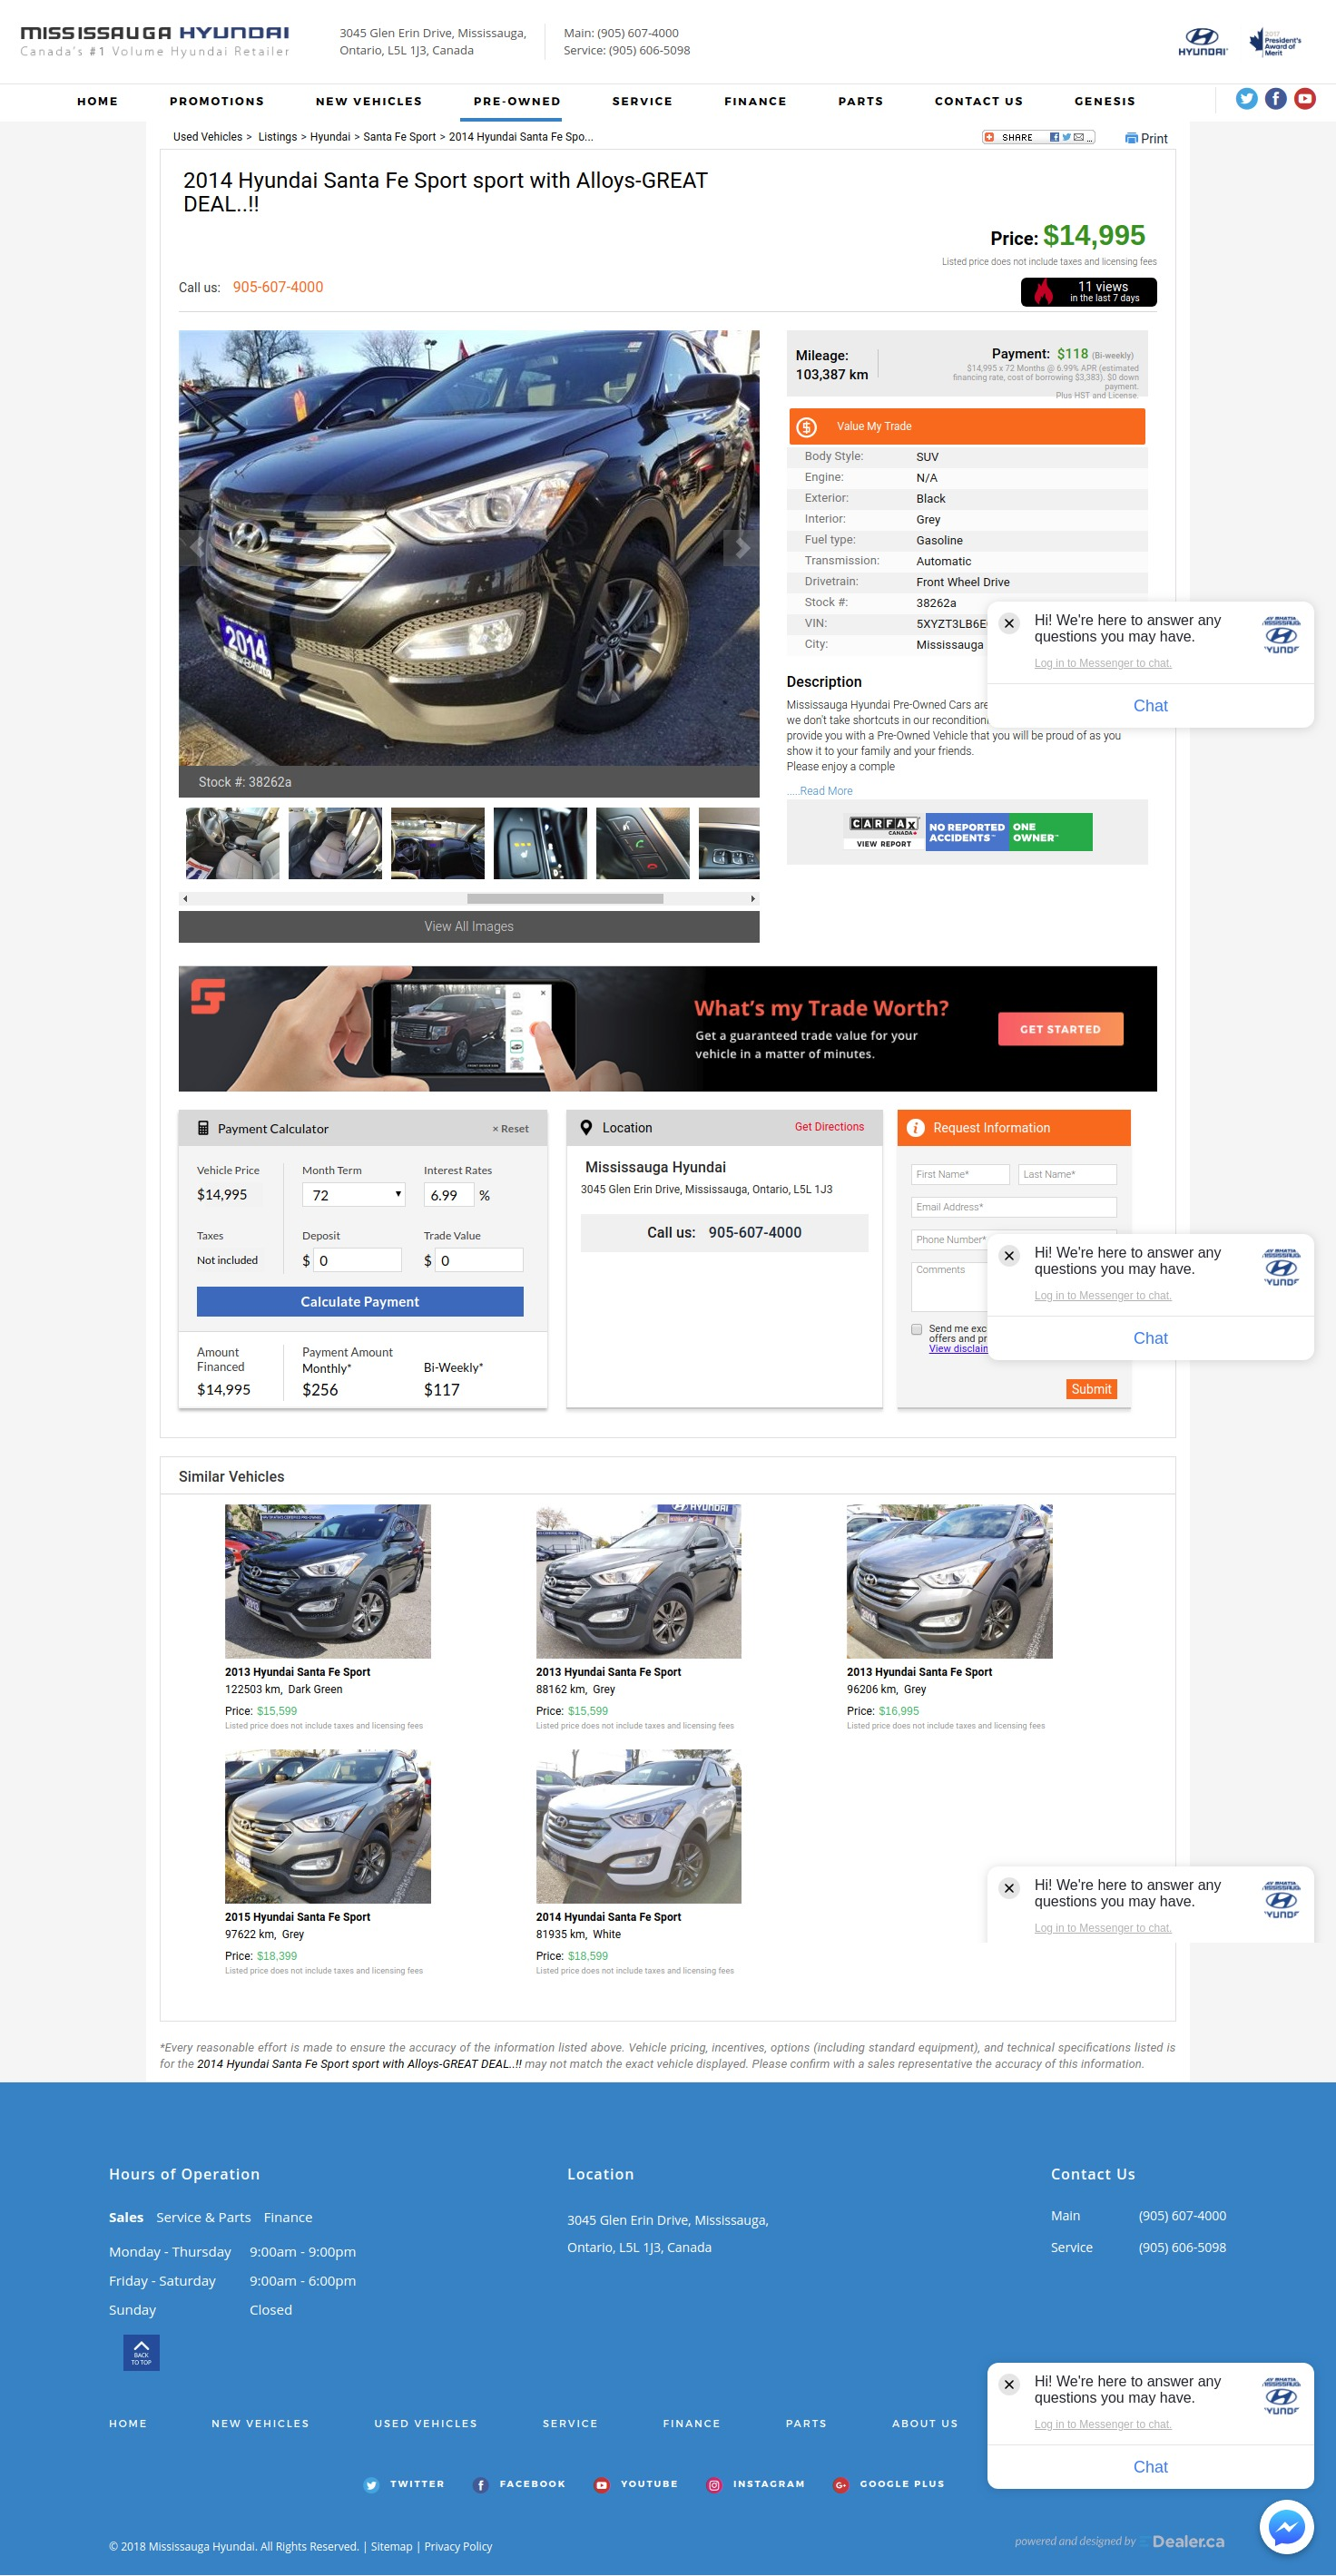car: (750, 896, 757, 902)
